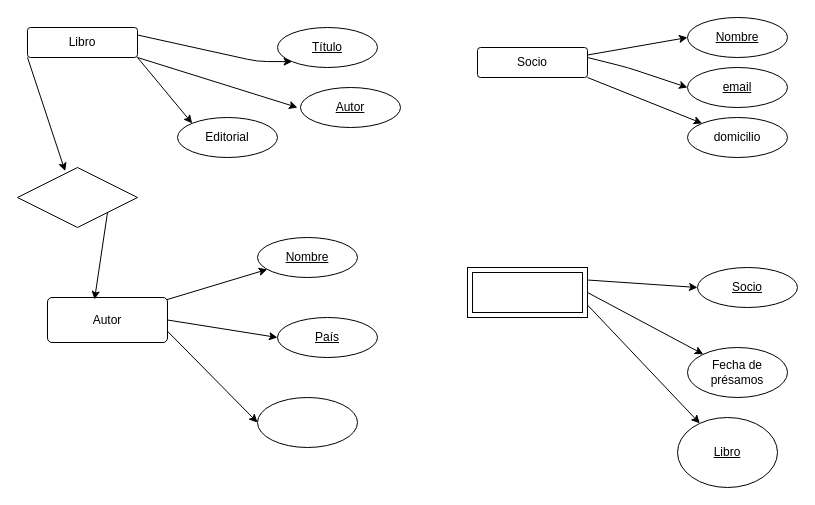
Some shapes in this 815 by 505 pixel diagram are drawn without their labels. Each missing label, with the centre of its shape:
"préstamo" belongs at point (527, 292).
"Sexo" belongs at point (307, 422).
"Tiene" belongs at point (77, 197).
